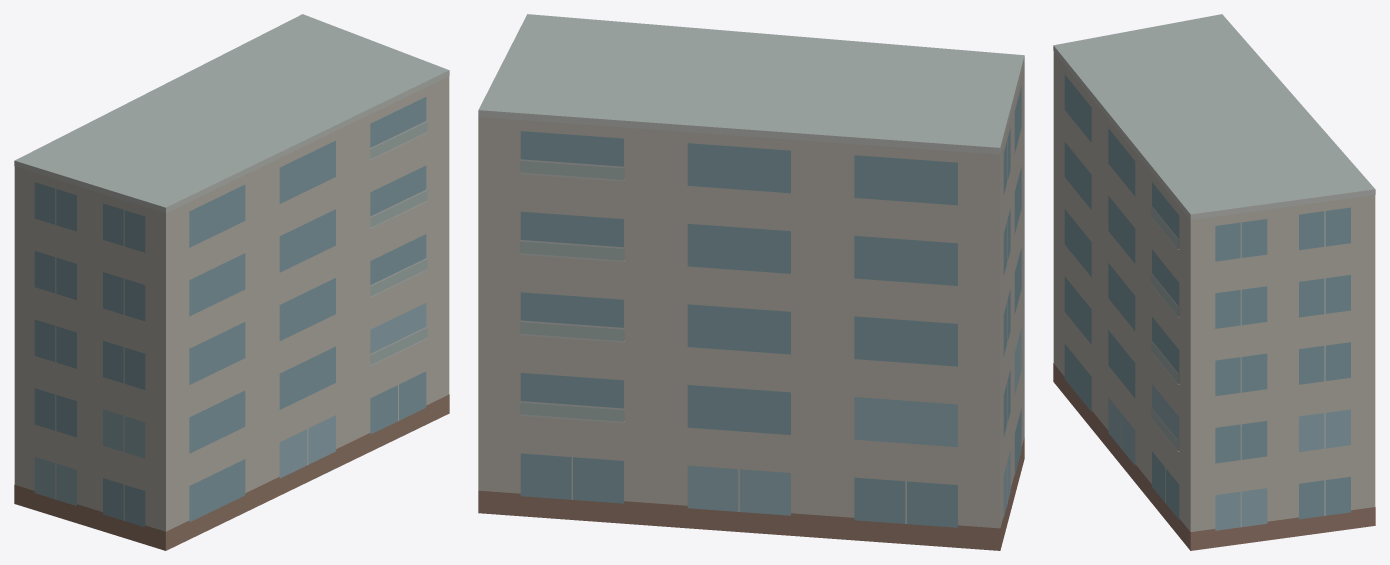
File: survey-upis-32765759.glb
The picture shows the model from 3 angles, left to right: view 1: azimuth 30°, elevation 25°; view 2: azimuth 150°, elevation 25°; view 3: azimuth 270°, elevation 25°; orthographic projection. The views are drawn at different scales.
Parts seen in each view (by area): view 1: survey-upis-32765759.tmp; view 2: survey-upis-32765759.tmp; view 3: survey-upis-32765759.tmp.
Boxes of the visible parts, x1=… form: survey-upis-32765759.tmp: x1=14, y1=14, x2=449, y2=550; survey-upis-32765759.tmp: x1=478, y1=14, x2=1024, y2=550; survey-upis-32765759.tmp: x1=1053, y1=14, x2=1375, y2=550.
Bounding box in the file's own units: 18.53 × 14.5 × 12.59.
